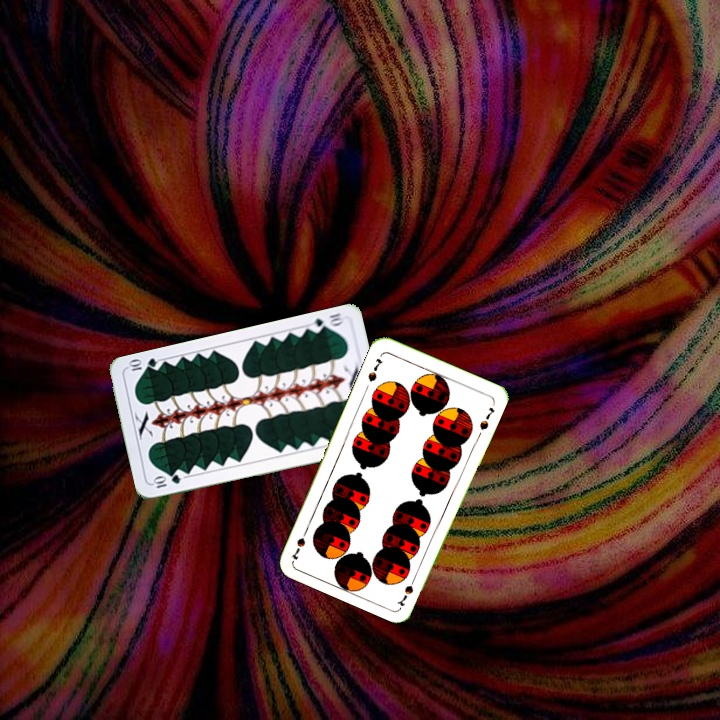G10: (307, 309, 347, 335), (149, 471, 183, 491)
S7: (394, 570, 419, 609), (364, 354, 385, 384)
